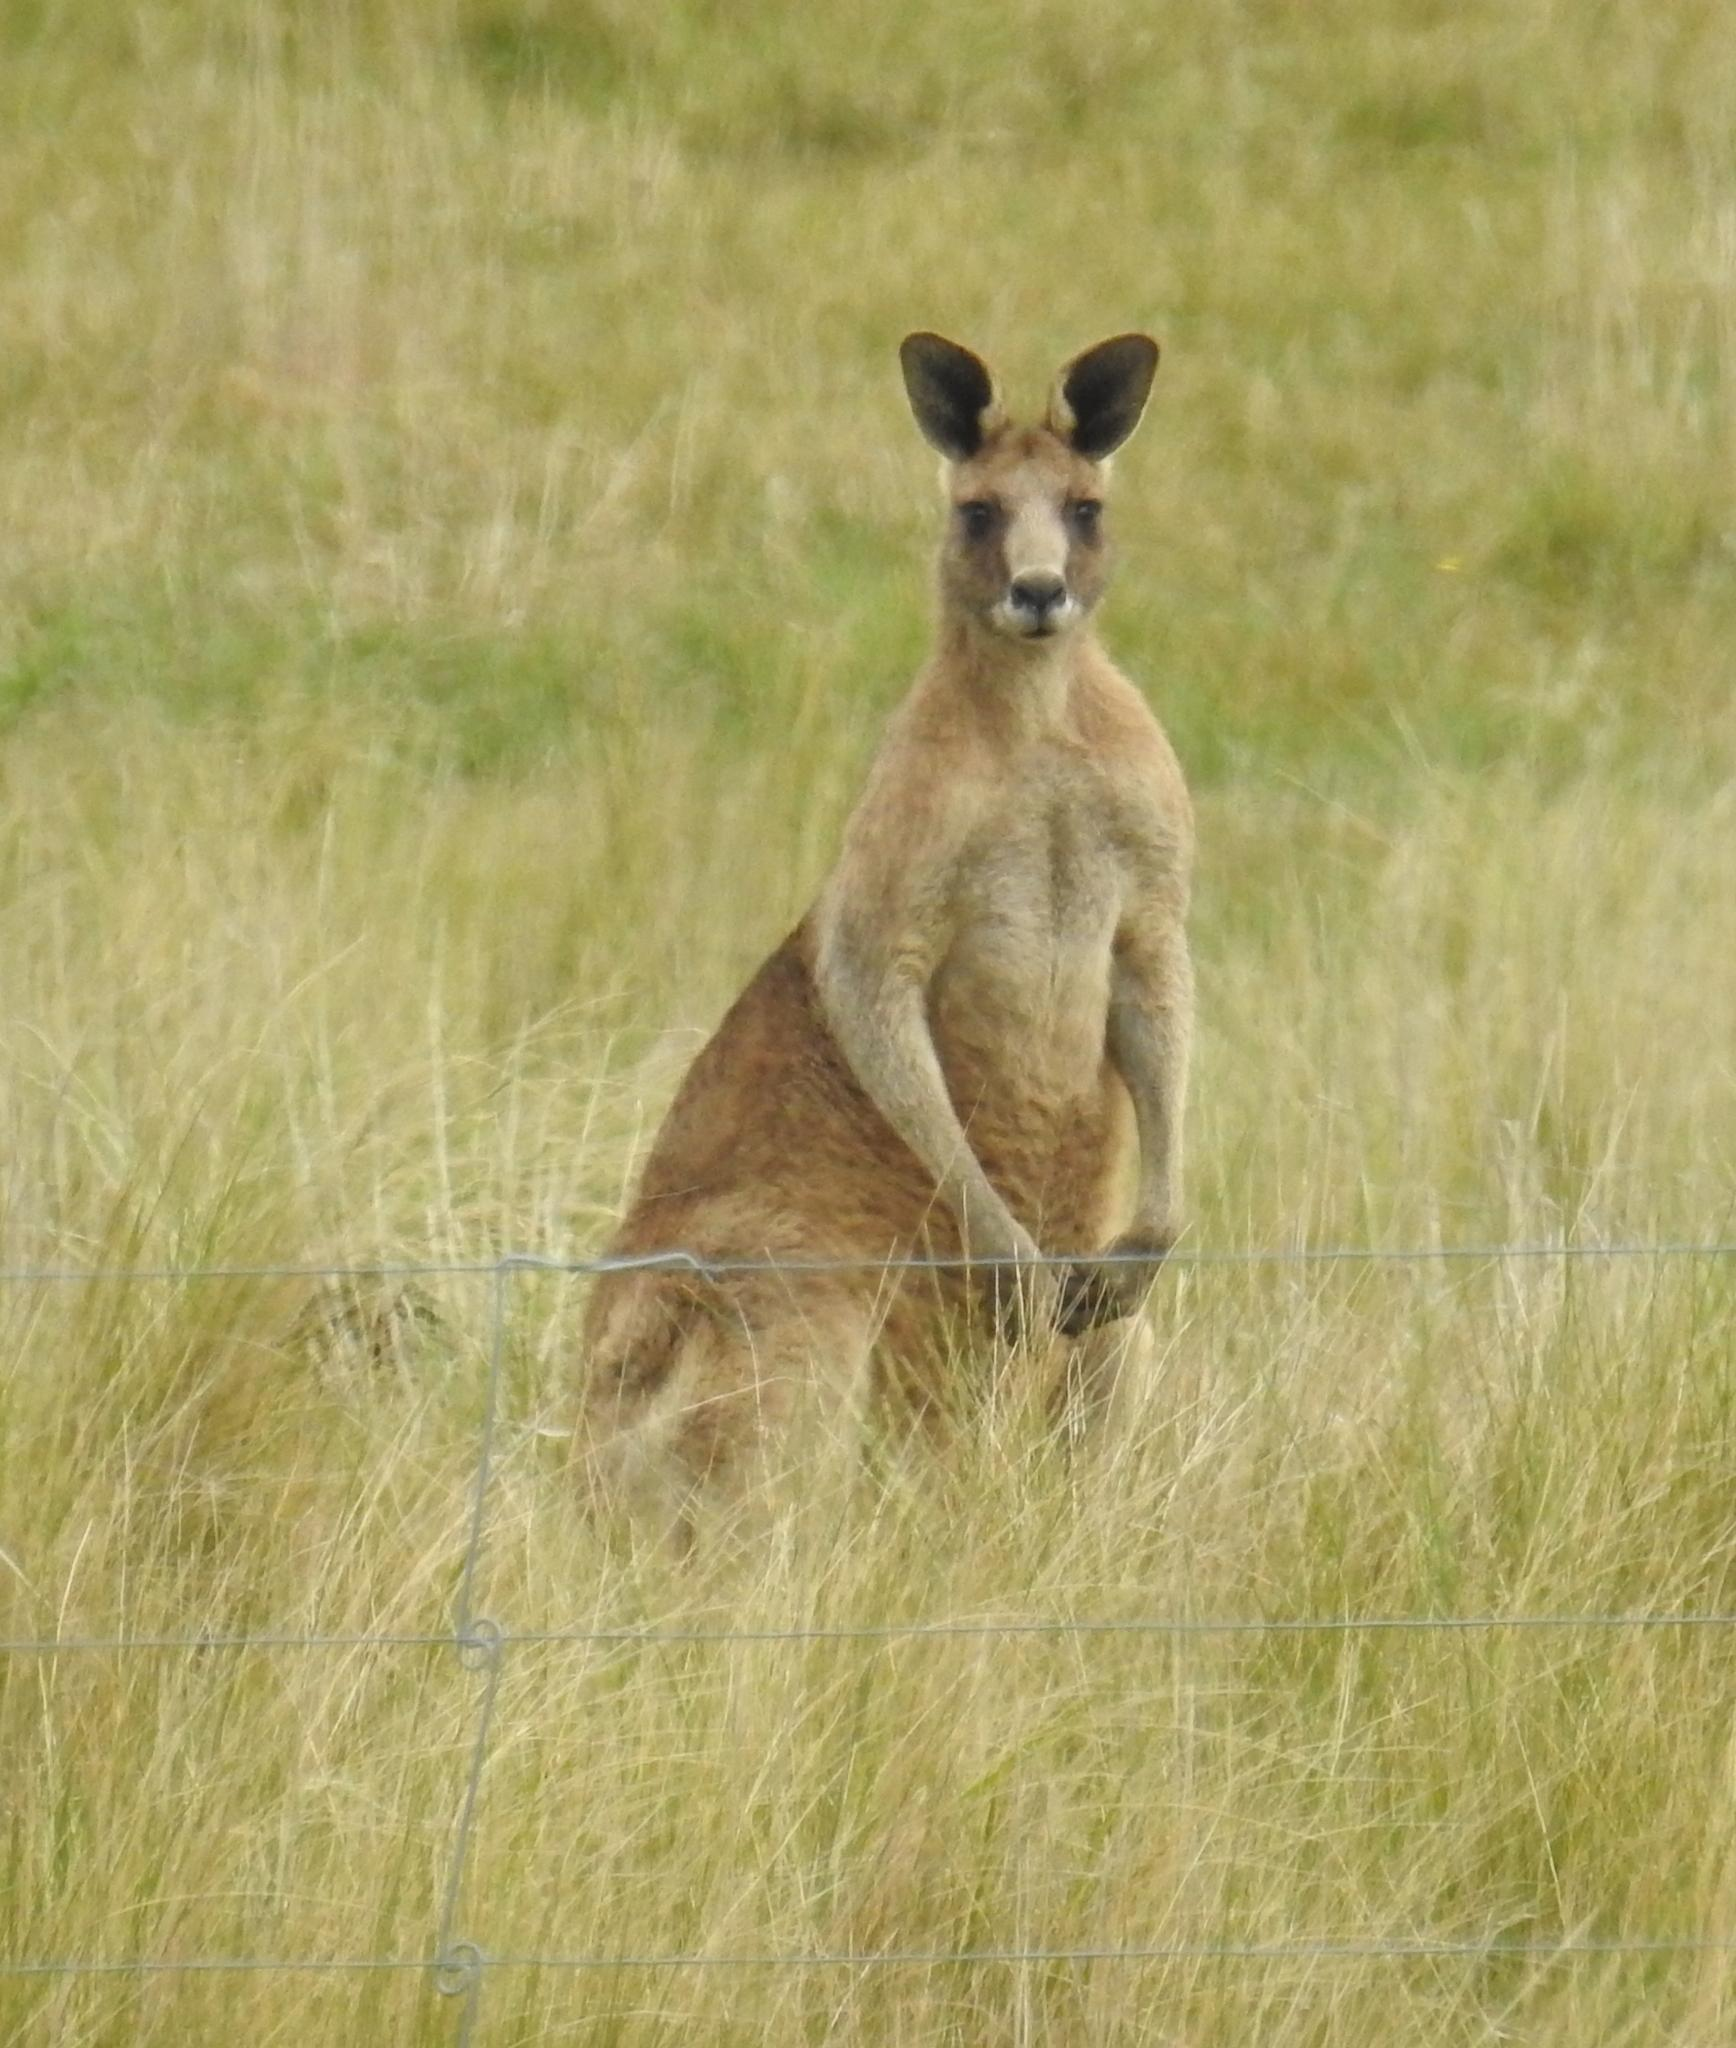Eastern grey kangaroo: (548, 326, 1202, 1629)
